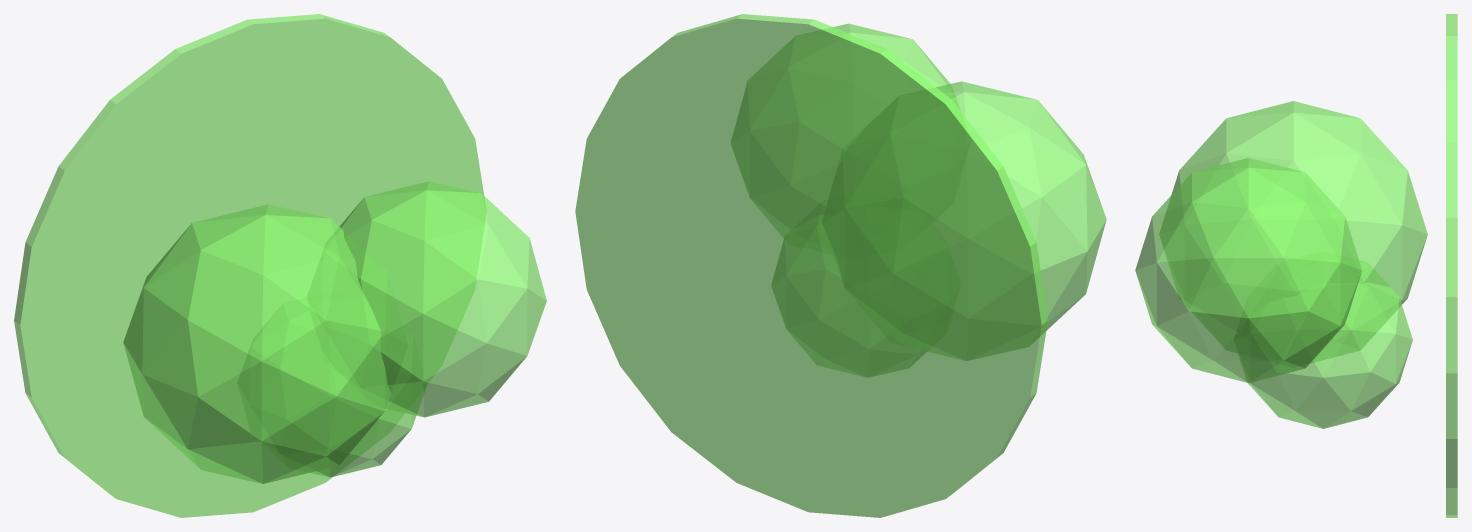
File: vfx_poison_cloud.glb
3 renders of one model, left to right at view 1: azimuth 30°, elevation 25°; view 2: azimuth 150°, elevation 25°; view 3: azimuth 270°, elevation 25°, orthographic. The views are drawn at different scales.
Visible parts, largest first — view 1: ground, cloud_a, cloud_b, cloud_c; view 2: ground, cloud_a, cloud_b, cloud_c; view 3: cloud_a, cloud_b, cloud_c, ground.
Part boxes in pixels (<box>): ground: <box>14,14,485,517</box>; cloud_a: <box>123,204,407,483</box>; cloud_b: <box>307,181,546,417</box>; cloud_c: <box>238,298,426,477</box>; ground: <box>575,14,1047,517</box>; cloud_a: <box>822,81,1106,360</box>; cloud_b: <box>731,23,959,237</box>; cloud_c: <box>771,215,926,376</box>; cloud_a: <box>1159,101,1427,362</box>; cloud_b: <box>1135,157,1361,382</box>; cloud_c: <box>1234,261,1412,428</box>; ground: <box>1446,14,1457,517</box>.
Size of the model in its own units: 1.7 by 1.7 by 1.08.
